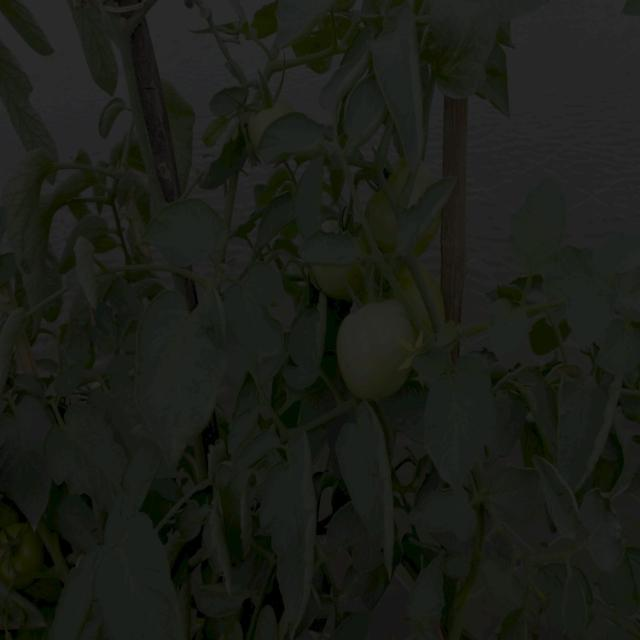tomato: (342, 301, 415, 398), (5, 520, 40, 579), (367, 192, 396, 255), (244, 97, 292, 130), (320, 270, 364, 293), (406, 168, 430, 207), (431, 276, 449, 321), (405, 282, 422, 318), (389, 151, 400, 196)
